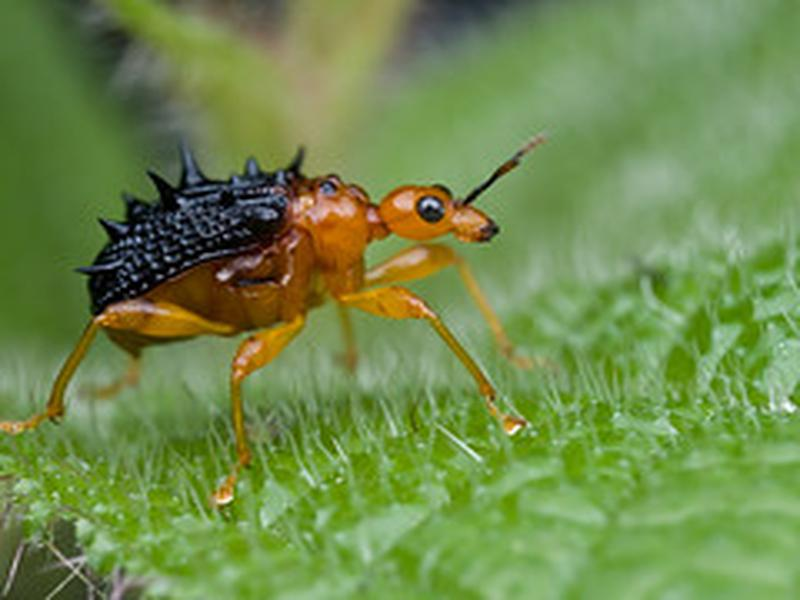Spiny_beetle: (38, 129, 588, 456)
